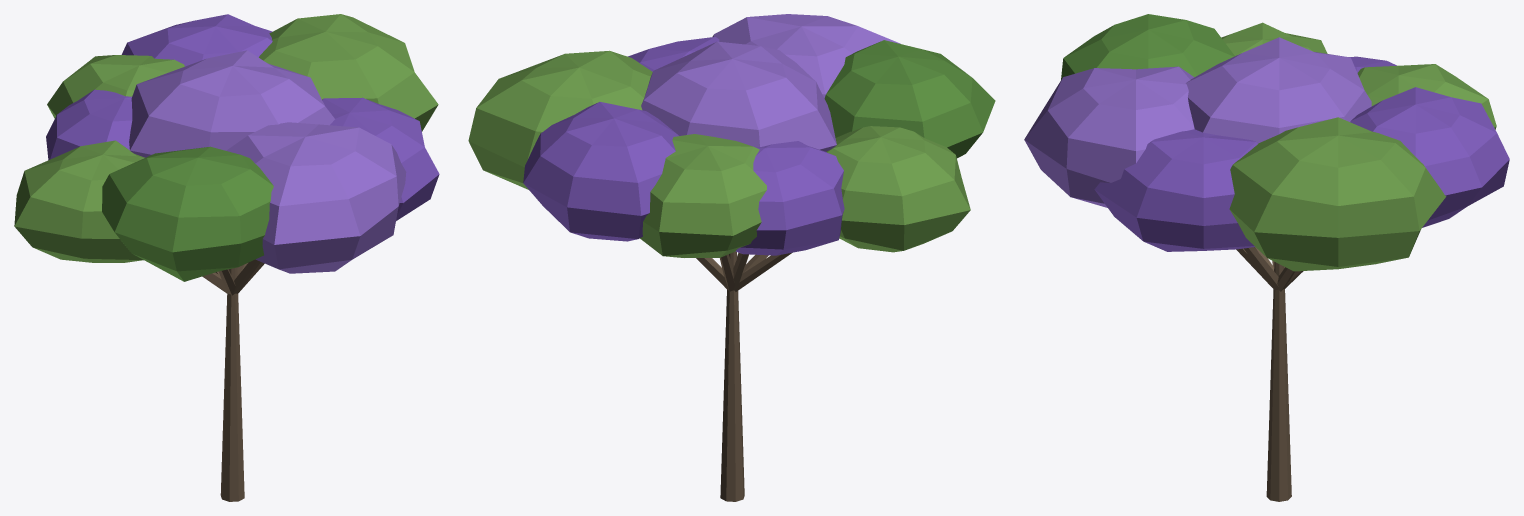
File: tree_jacaranda_small.glb
3 renders of one model, left to right at view 1: azimuth 30°, elevation 25°; view 2: azimuth 150°, elevation 25°; view 3: azimuth 270°, elevation 25°, orthographic.
Parts seen in each view (by area): view 1: tree_jacaranda_small; view 2: tree_jacaranda_small; view 3: tree_jacaranda_small.
Part boxes in pixels (<box>): tree_jacaranda_small: <box>14,14,439,501</box>; tree_jacaranda_small: <box>468,14,995,501</box>; tree_jacaranda_small: <box>1024,14,1509,501</box>.
Bounding box in the file's own units: 4.43 × 4.23 × 4.24.
